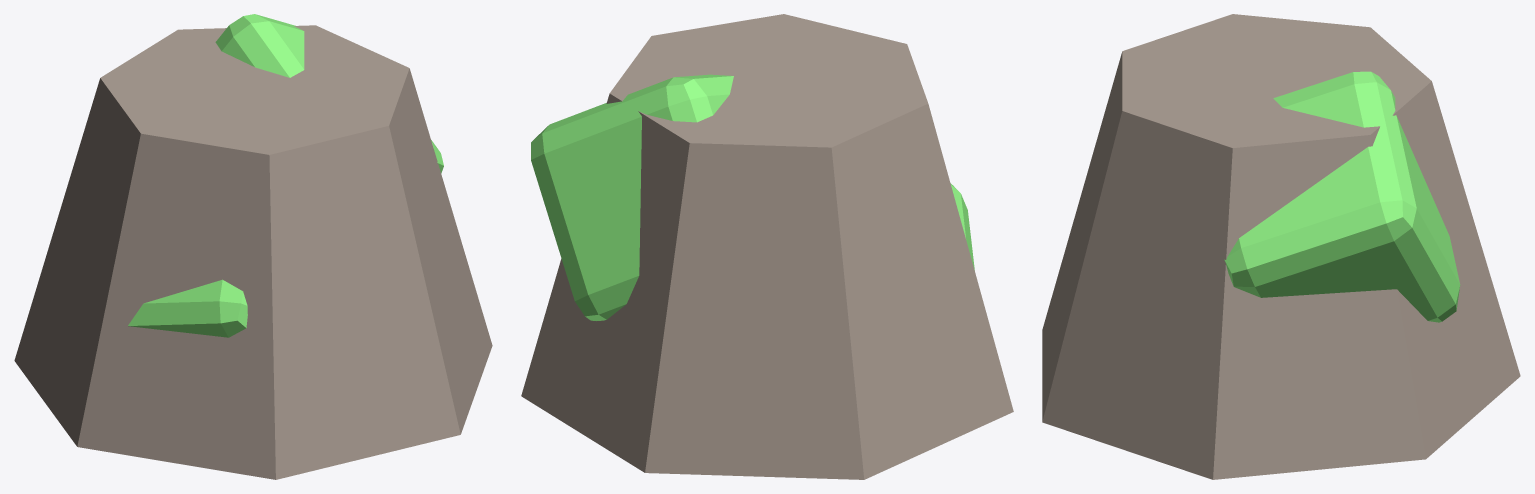
File: RawUranium.fbx
3 renders of one model, left to right at view 1: azimuth 30°, elevation 25°; view 2: azimuth 150°, elevation 25°; view 3: azimuth 270°, elevation 25°, orthographic. The views are drawn at different scales.
Visible parts, largest first — view 1: MainMesh; view 2: MainMesh; view 3: MainMesh.
Boxes of the visible parts, x1,y1,x2,y2 form: MainMesh: (14,14,492,479); MainMesh: (521,14,1013,479); MainMesh: (1042,14,1520,479).
Bounding box in the file's own units: 1.66 × 1.2 × 1.62.
